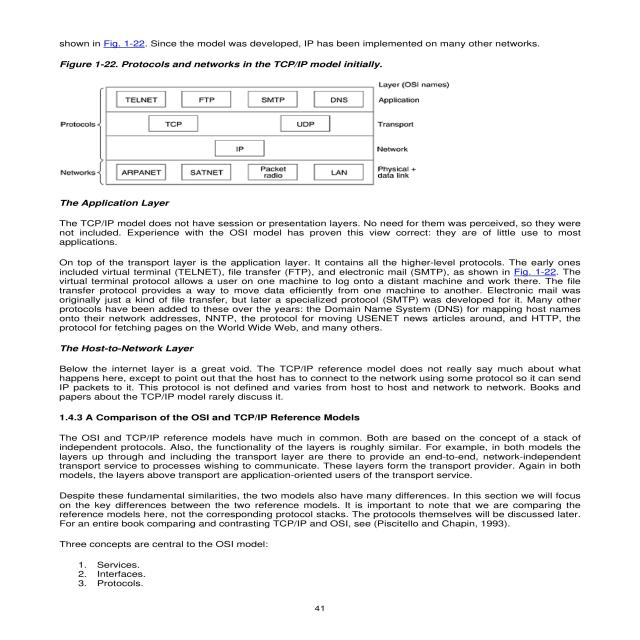diagram: (56, 57, 498, 192)
